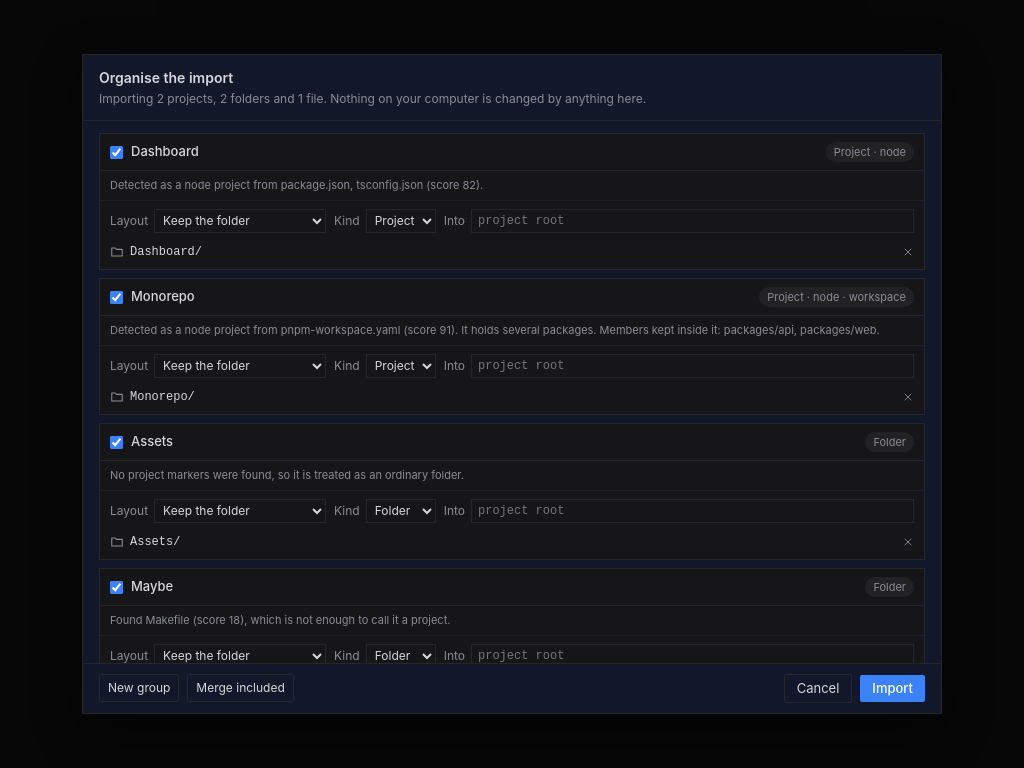
Test: layout normalisation › reset restores the automatic layout and destination
The image size is (1024, 768).
Type "media" into the 3rd field labelled "Into".
click(692, 511); type("media")  # box [471,499,914,523]
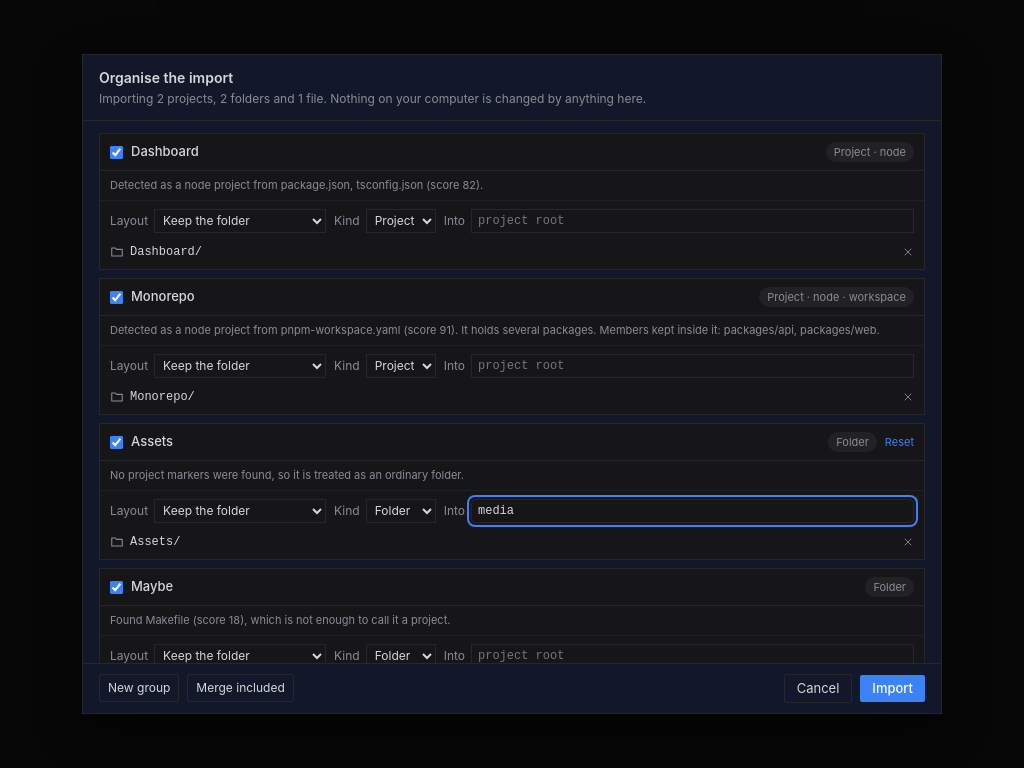
Click the button "Reset".
click(899, 442)  # box [885,434,914,450]
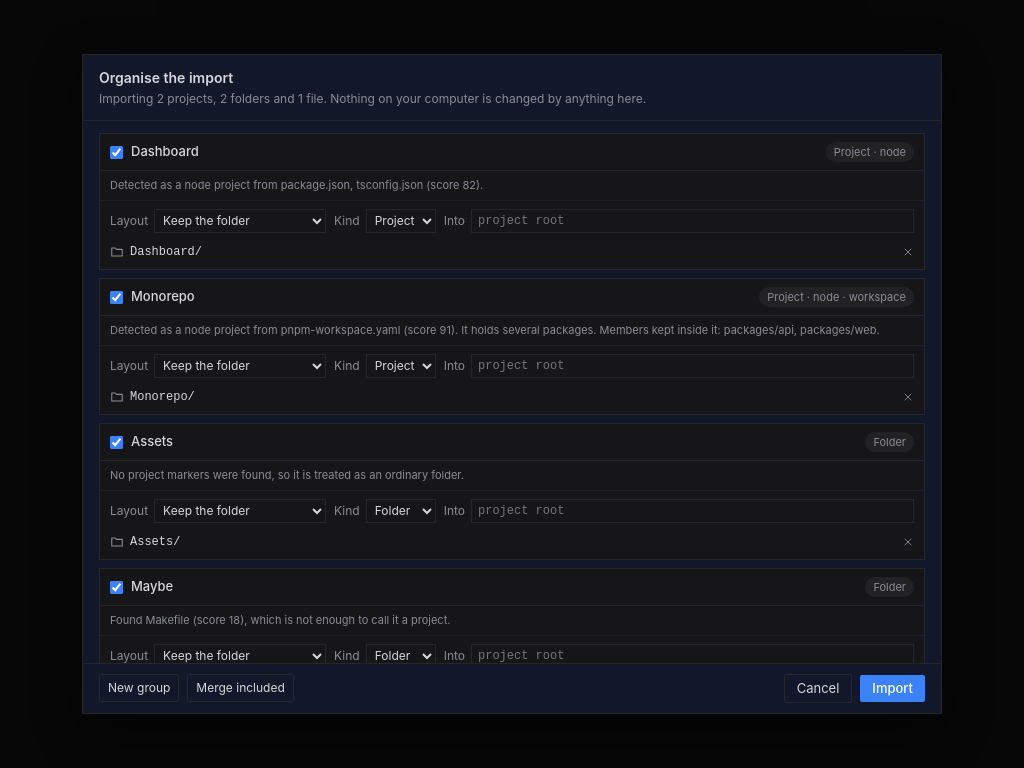
Expected: the 3rd field labelled "Into" is empty, [471,499,914,523]
